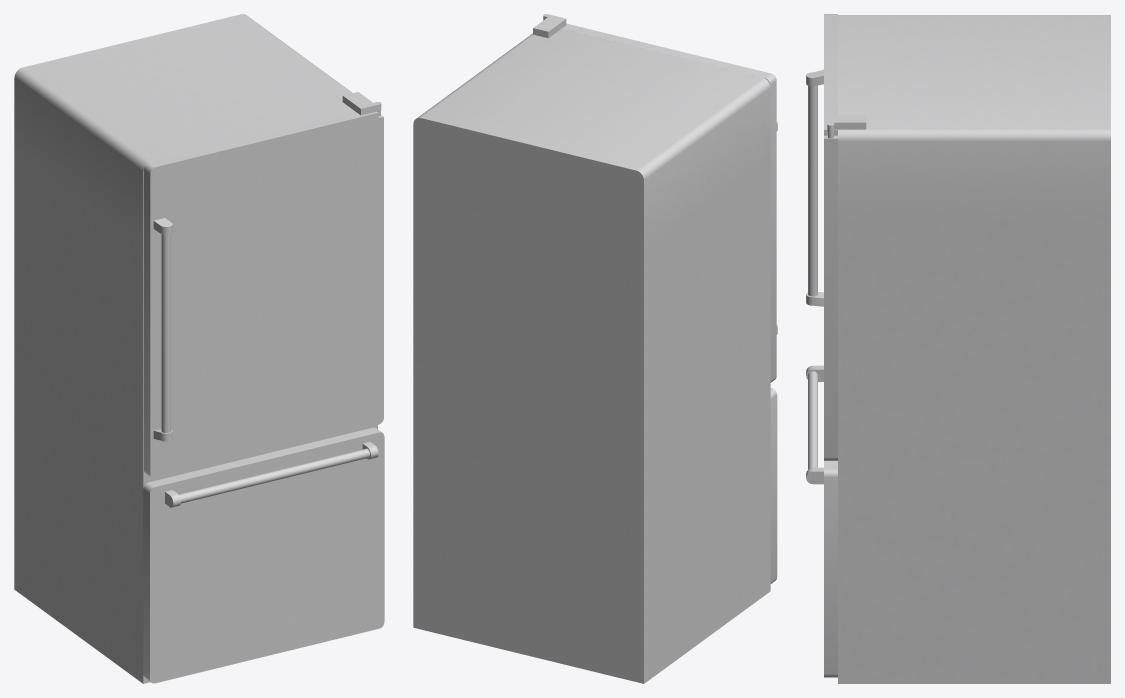
The model's file is Refrigerator01.fbx.
3 renders of one model, left to right at view 1: azimuth 30°, elevation 25°; view 2: azimuth 150°, elevation 25°; view 3: azimuth 270°, elevation 25°, orthographic. The views are drawn at different scales.
Parts seen in each view (by area): view 1: Refrigerator01, Refrigerator01_Door01, Refrigerator01_Door02; view 2: Refrigerator01, Refrigerator01_Door01, Refrigerator01_Door02; view 3: Refrigerator01, Refrigerator01_Door01, Refrigerator01_Door02.
Boxes of the visible parts, left/top/right/bottom form: Refrigerator01: left=14, top=14, right=381, bottom=683; Refrigerator01_Door01: left=144, top=111, right=383, bottom=479; Refrigerator01_Door02: left=143, top=427, right=384, bottom=683; Refrigerator01: left=413, top=14, right=770, bottom=683; Refrigerator01_Door01: left=562, top=23, right=777, bottom=382; Refrigerator01_Door02: left=770, top=388, right=777, bottom=583; Refrigerator01: left=827, top=15, right=1110, bottom=683; Refrigerator01_Door01: left=806, top=14, right=837, bottom=460; Refrigerator01_Door02: left=806, top=365, right=837, bottom=677.
Size of the model in its own units: 81.13 by 174 by 86.16.
